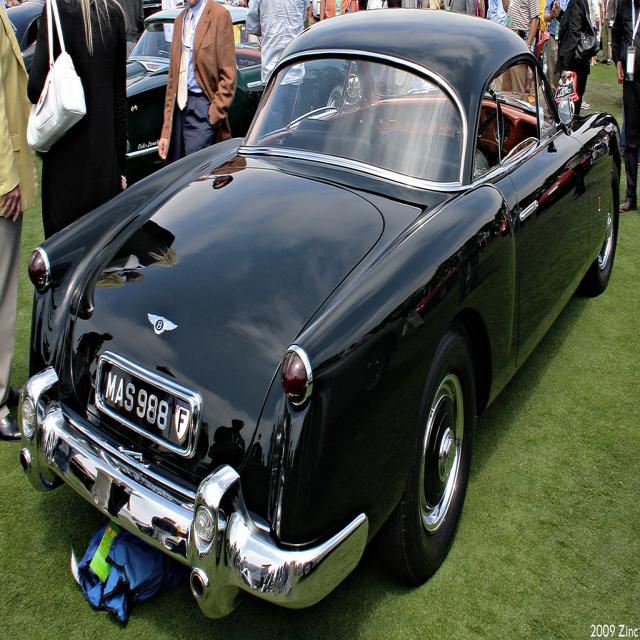car: (25, 43, 623, 596)
